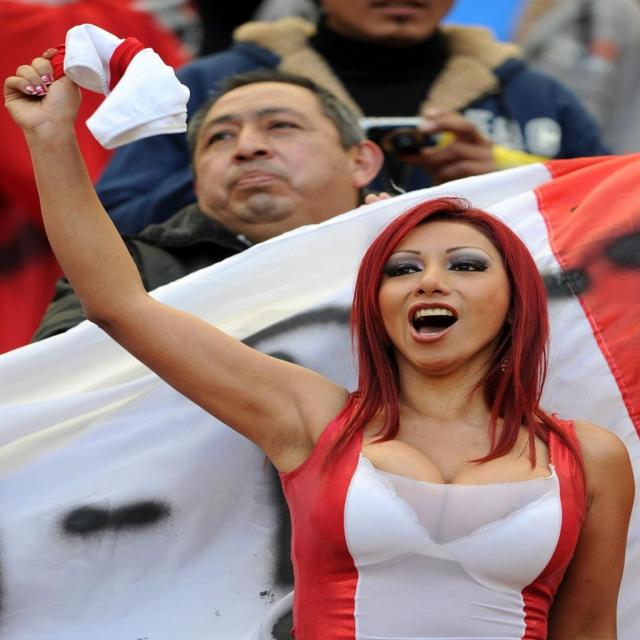nomask: (194, 85, 342, 220), (381, 211, 504, 371)
